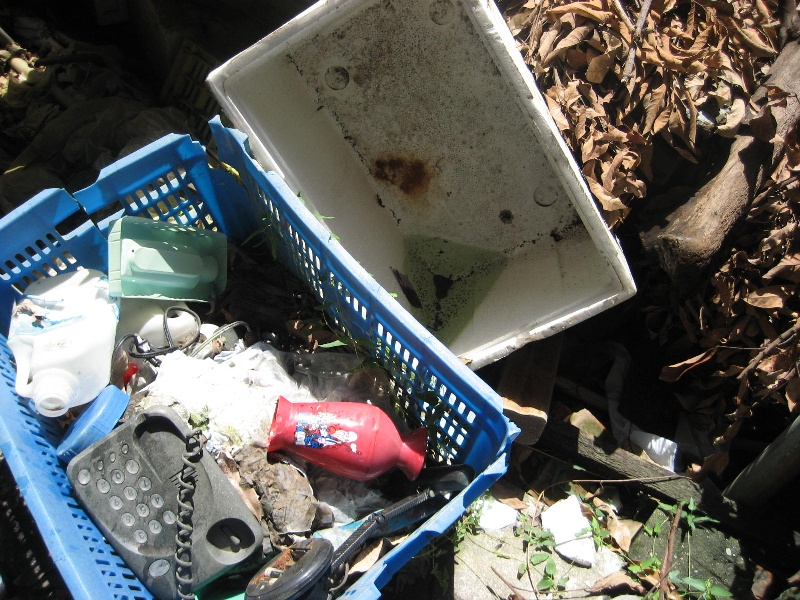bottle: (4, 266, 121, 419), (265, 394, 431, 485)
box: (106, 213, 230, 305)
styrofoam: (203, 1, 638, 372)
